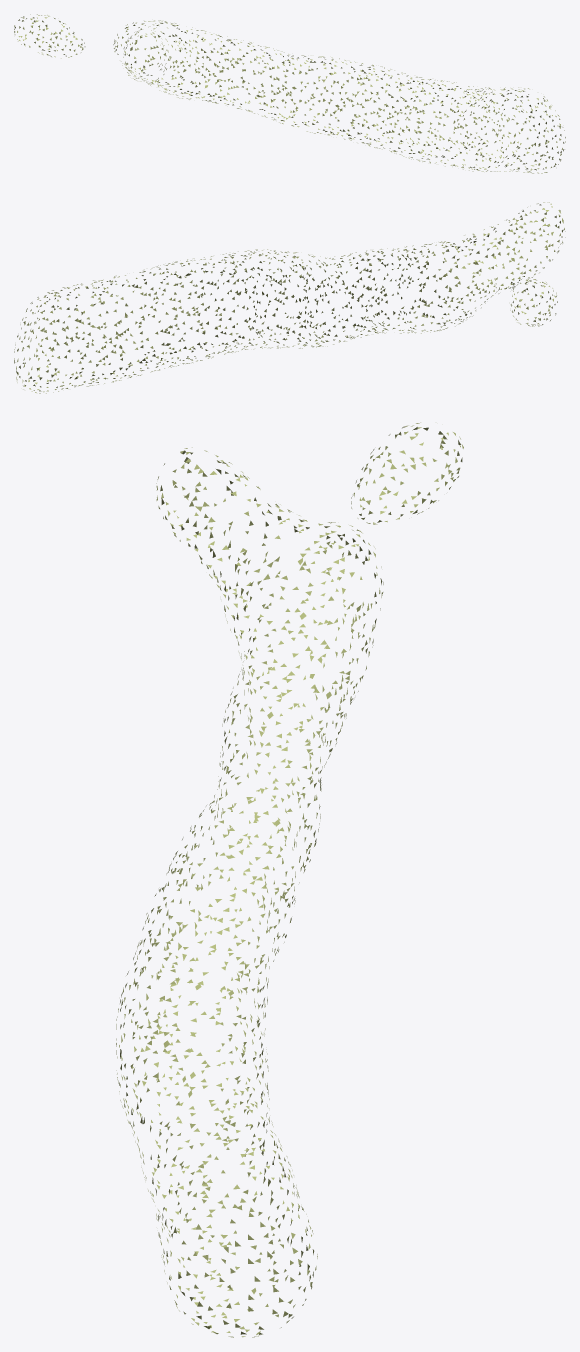
Rendered from morph_010.glb.
3 renders of one model, top to bottom at view 1: azimuth 30°, elevation 25°; view 2: azimuth 150°, elevation 25°; view 3: azimuth 270°, elevation 25°, orthographic. The views are drawn at different scales.
Size of the model in its own units: 130 by 62.2 by 40.18.
